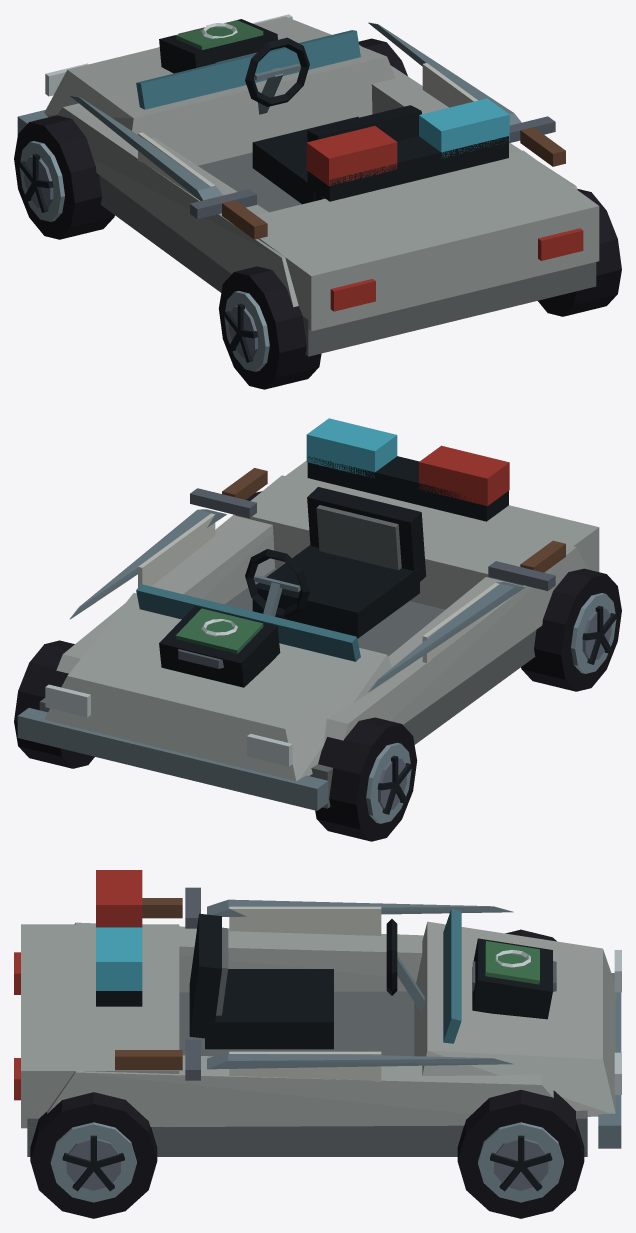
The model's file is kart.glb.
3 renders of one model, top to bottom at view 1: azimuth 30°, elevation 25°; view 2: azimuth 150°, elevation 25°; view 3: azimuth 270°, elevation 25°, orthographic. The views are drawn at different scales.
Visible parts, largest first — view 1: identity-police-car-police-car-road-car-body, wheel-front-left, wheel-rear-left, identity-police-car-driver-cockpit, identity-police-car-motif-swords, identity-police-car-motif-scanner, wheel-rear-right, wheel-front-right; view 2: identity-police-car-police-car-road-car-body, identity-police-car-driver-cockpit, wheel-front-left, wheel-rear-left, identity-police-car-motif-swords, identity-police-car-motif-scanner, wheel-front-right; view 3: identity-police-car-police-car-road-car-body, identity-police-car-driver-cockpit, wheel-front-right, wheel-rear-right, identity-police-car-motif-swords, identity-police-car-motif-scanner.
Boxes of the visible parts, left/top/right/bottom form: identity-police-car-police-car-road-car-body: left=17, top=14, right=599, bottom=356; wheel-front-left: left=14, top=115, right=114, bottom=239; wheel-rear-left: left=218, top=266, right=321, bottom=389; identity-police-car-driver-cockpit: left=245, top=37, right=421, bottom=204; identity-police-car-motif-swords: left=70, top=22, right=565, bottom=239; identity-police-car-motif-scanner: left=159, top=19, right=277, bottom=73; wheel-rear-right: left=538, top=188, right=621, bottom=316; wheel-front-right: left=358, top=38, right=407, bottom=75; identity-police-car-police-car-road-car-body: left=17, top=418, right=599, bottom=810; identity-police-car-driver-cockpit: left=245, top=487, right=426, bottom=638; wheel-front-left: left=315, top=717, right=417, bottom=841; wheel-rear-left: left=521, top=568, right=621, bottom=691; identity-police-car-motif-swords: left=69, top=468, right=565, bottom=692; identity-police-car-motif-scanner: left=159, top=606, right=280, bottom=687; wheel-front-right: left=14, top=640, right=94, bottom=768; identity-police-car-police-car-road-car-body: left=14, top=870, right=621, bottom=1156; identity-police-car-driver-cockpit: left=189, top=913, right=424, bottom=1049; wheel-front-right: left=457, top=1090, right=584, bottom=1218; wheel-rear-right: left=30, top=1092, right=157, bottom=1218; identity-police-car-motif-swords: left=115, top=887, right=513, bottom=1080; identity-police-car-motif-scanner: left=472, top=938, right=552, bottom=1019.
Bounding box in the file's own units: 2.07 × 1.13 × 2.88.
